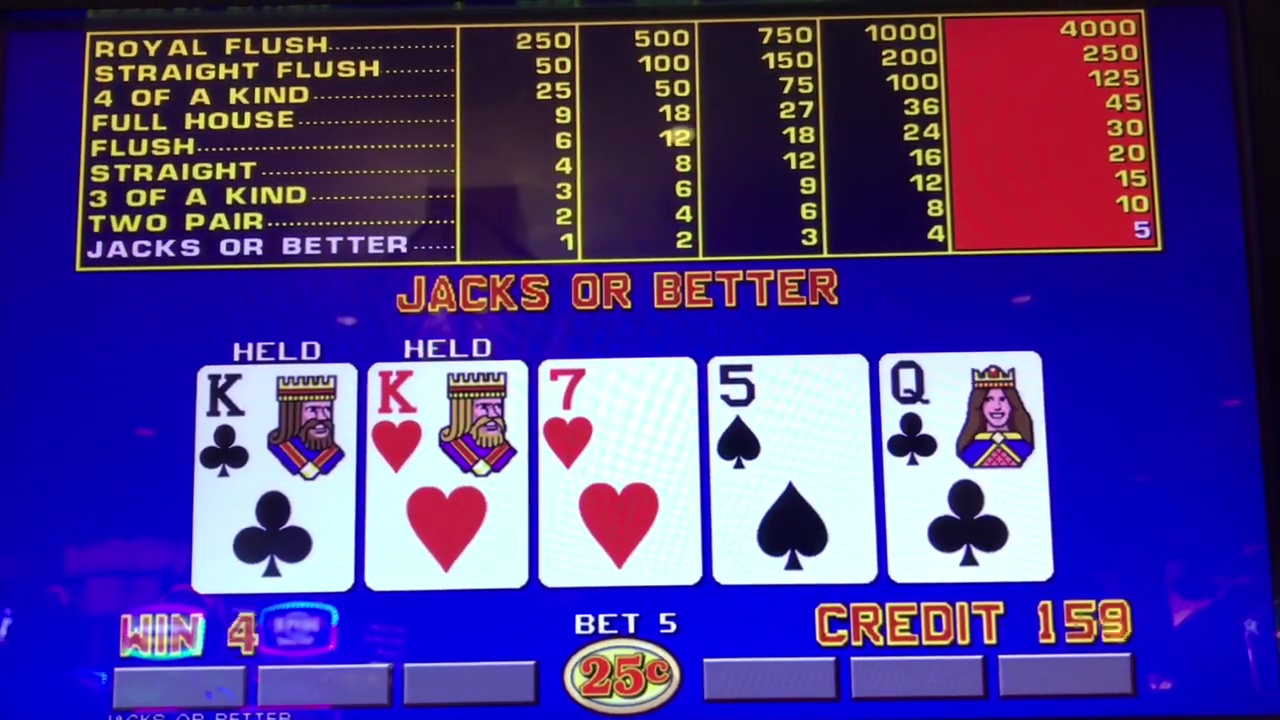CK: (200, 366, 349, 488)
CQ: (892, 354, 1039, 478)
H7: (543, 364, 696, 484)
HK: (374, 363, 520, 486)
S5: (716, 359, 867, 481)
